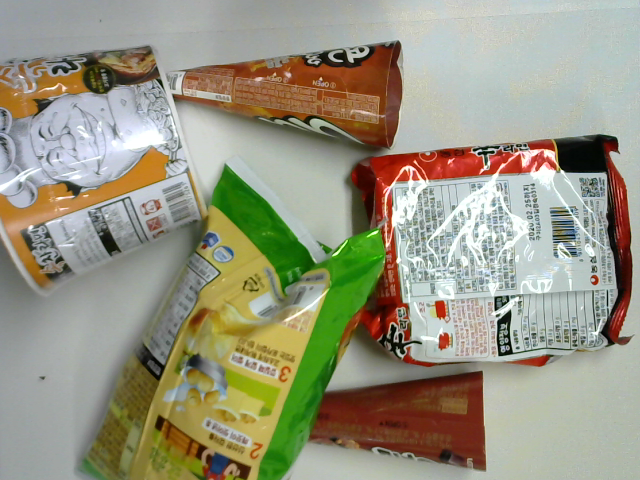GooGoo_Cone_CVS: (115, 36, 412, 155)
Hejangchan: (1, 41, 217, 304)
Pocachip_Onion: (71, 163, 386, 480)
Sinramen: (351, 127, 638, 371)
World_Cone_Choco: (232, 367, 499, 468)
